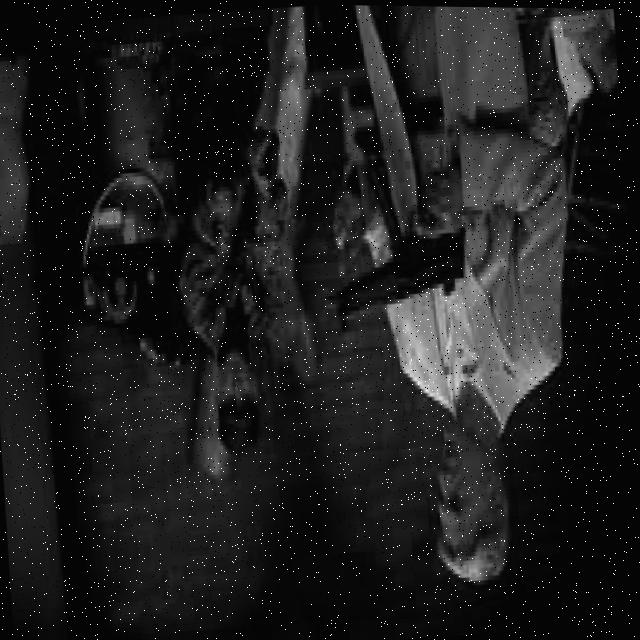firearm: (311, 143, 474, 334)
pistol: (259, 130, 283, 185)
